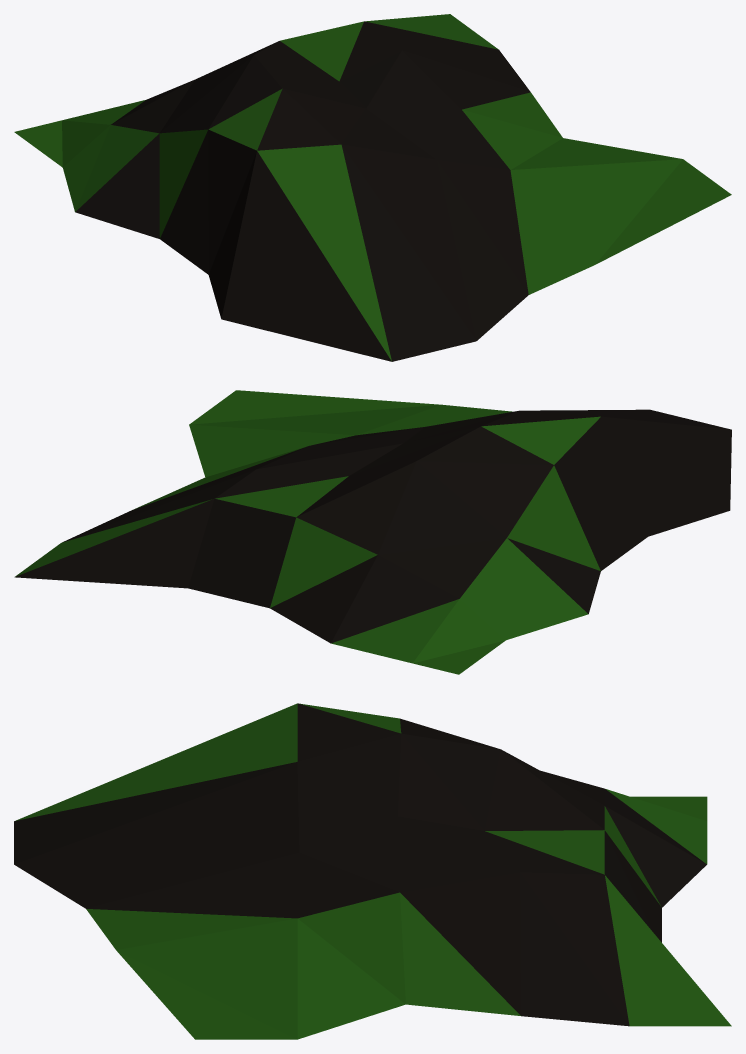
Rendered from Hill_2.fbx.
The picture shows the model from 3 angles, top to bottom: view 1: azimuth 30°, elevation 25°; view 2: azimuth 150°, elevation 25°; view 3: azimuth 270°, elevation 25°; orthographic projection. The views are drawn at different scales.
Parts seen in each view (by area): view 1: Hill_2; view 2: Hill_2; view 3: Hill_2.
Boxes of the visible parts, bbox=[...] form: Hill_2: bbox=[14, 14, 731, 361]; Hill_2: bbox=[14, 390, 731, 674]; Hill_2: bbox=[14, 703, 731, 1039].
Size of the model in its own units: 1136 by 255 by 1317.
